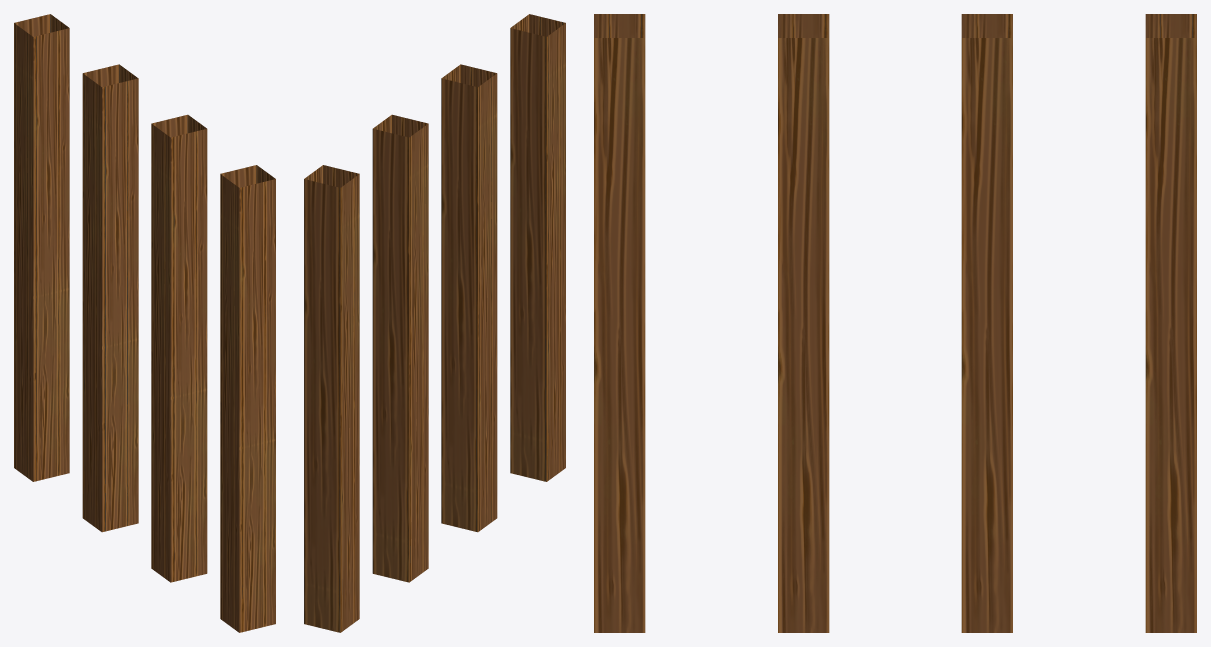
The picture shows the model from 3 angles, left to right: view 1: azimuth 30°, elevation 25°; view 2: azimuth 150°, elevation 25°; view 3: azimuth 270°, elevation 25°; orthographic projection. The views are drawn at different scales.
Visible parts, largest first — view 1: Cube.1834; view 2: Cube.1834; view 3: Cube.1834.
Boxes of the visible parts, left/top/right/bottom form: Cube.1834: left=14, top=14, right=275, bottom=632; Cube.1834: left=304, top=14, right=565, bottom=632; Cube.1834: left=594, top=14, right=1196, bottom=632.
Bounding box in the file's own units: 13.12 × 153 × 140.
1 material, 1 textured.
